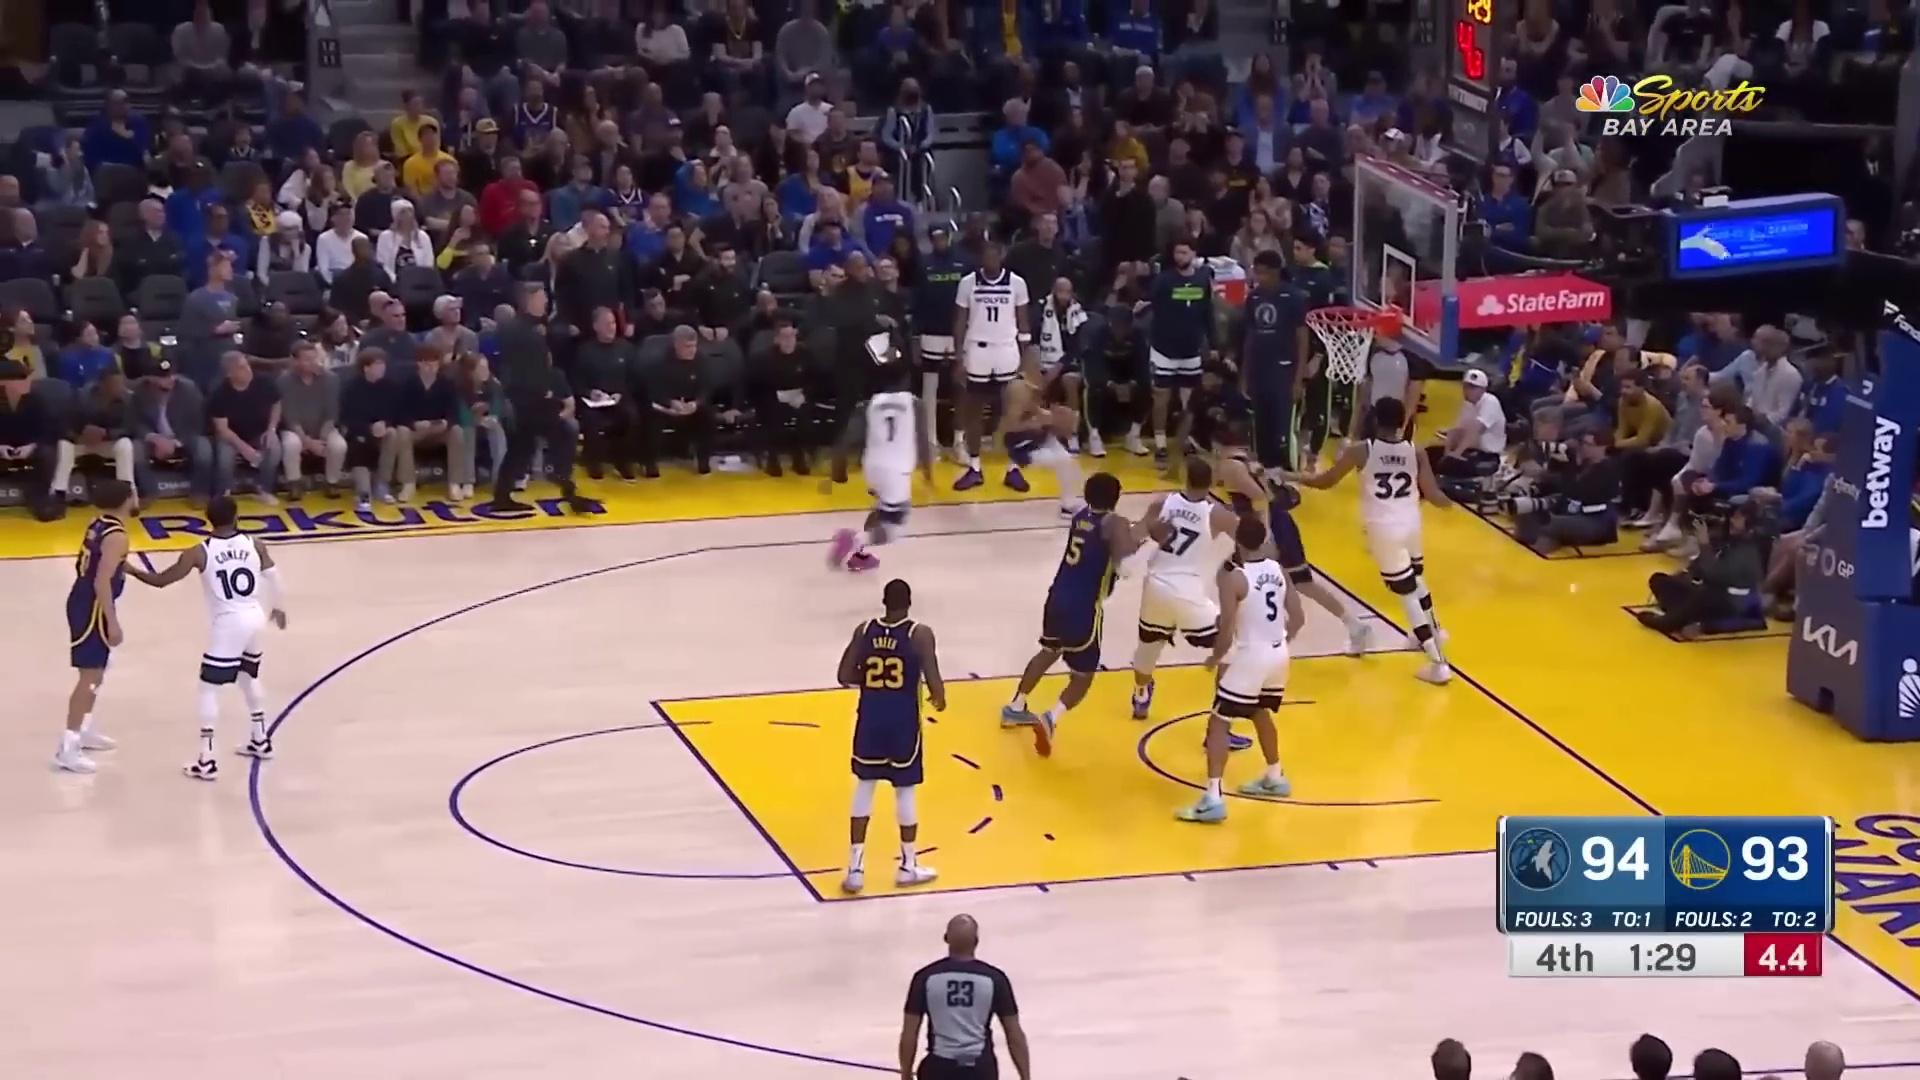Ball: (1043, 401, 1086, 443)
Player: (1256, 399, 1464, 686), (113, 494, 293, 783), (999, 473, 1148, 763), (1209, 416, 1384, 658), (1169, 508, 1291, 829), (833, 581, 946, 898), (1128, 454, 1253, 721), (48, 486, 148, 778), (829, 364, 938, 581), (999, 341, 1098, 518)
Rim: (1304, 156, 1466, 388)
